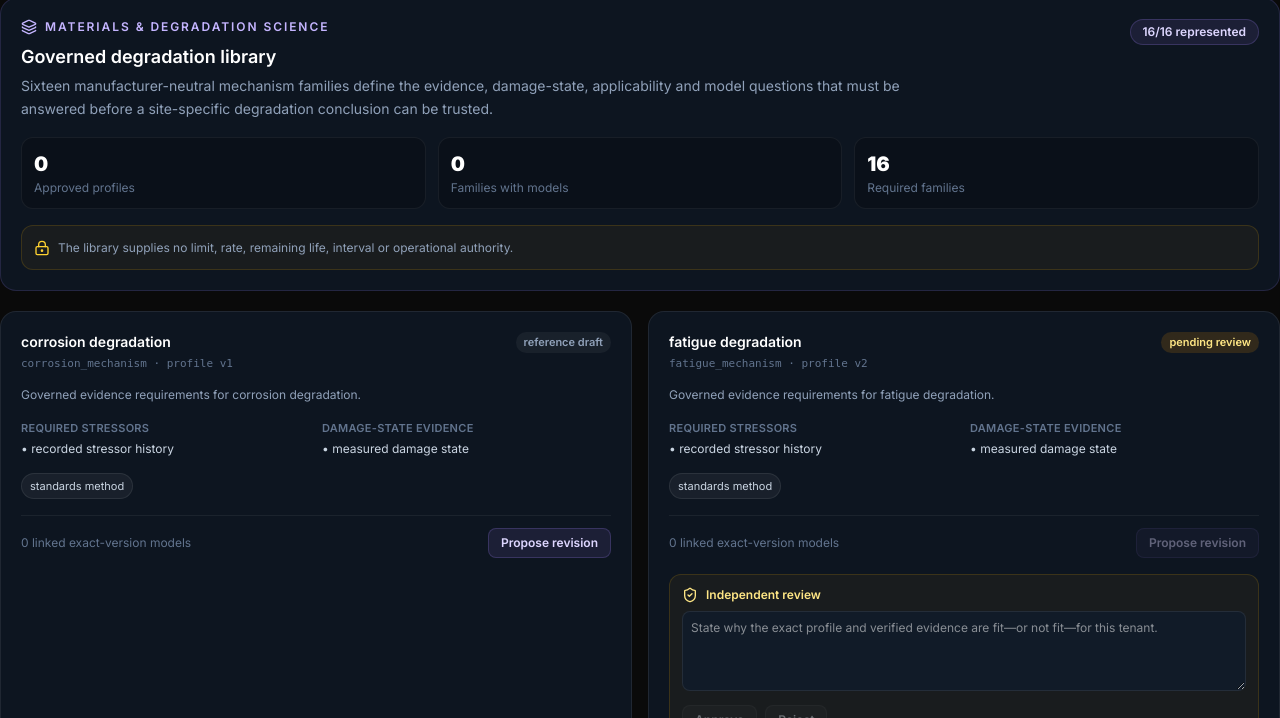
Test: DegradationLibraryPanel › submits a sourced revision through the governed RPC
This screenshot has width=1280, height=718.
Click the 1st button "Propose revision" at (550, 543), box [488,528,611,558]
(page scrolled)
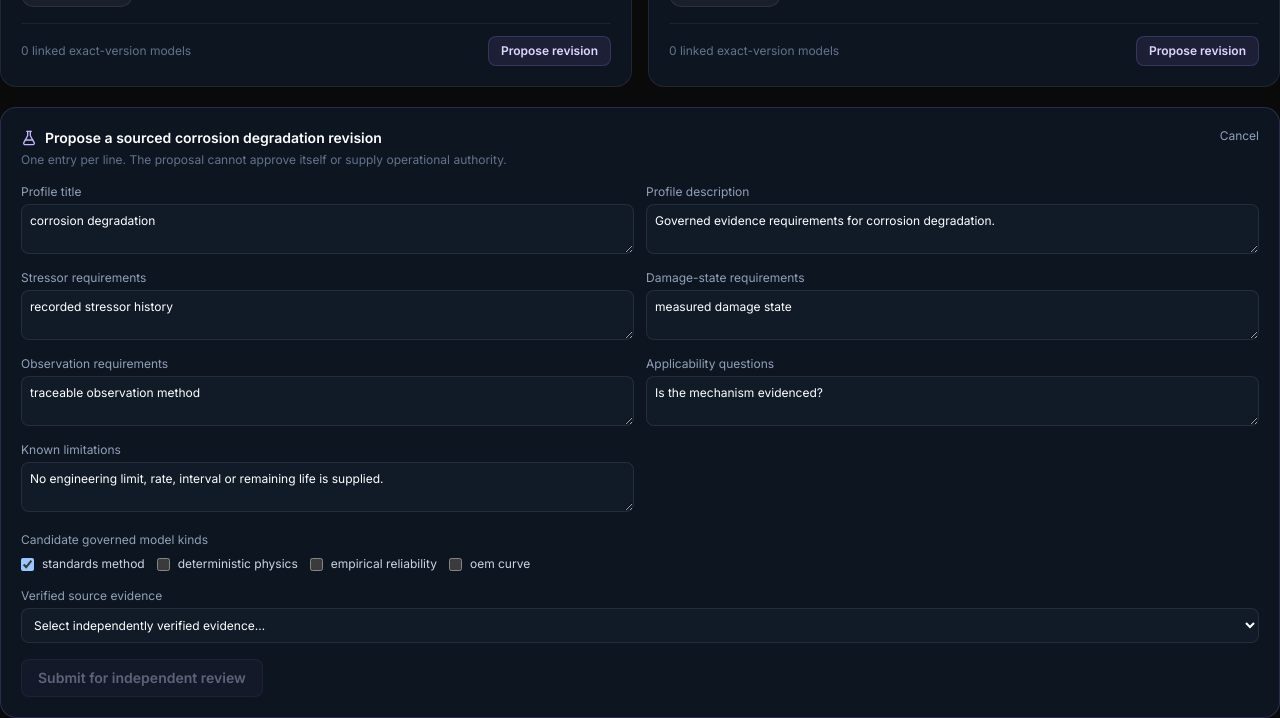
Select "inspection · Verified corrosion assessment basis" in the dropdown labelled "Verified source evidence" at (640, 626), box [21,608,1259,643]
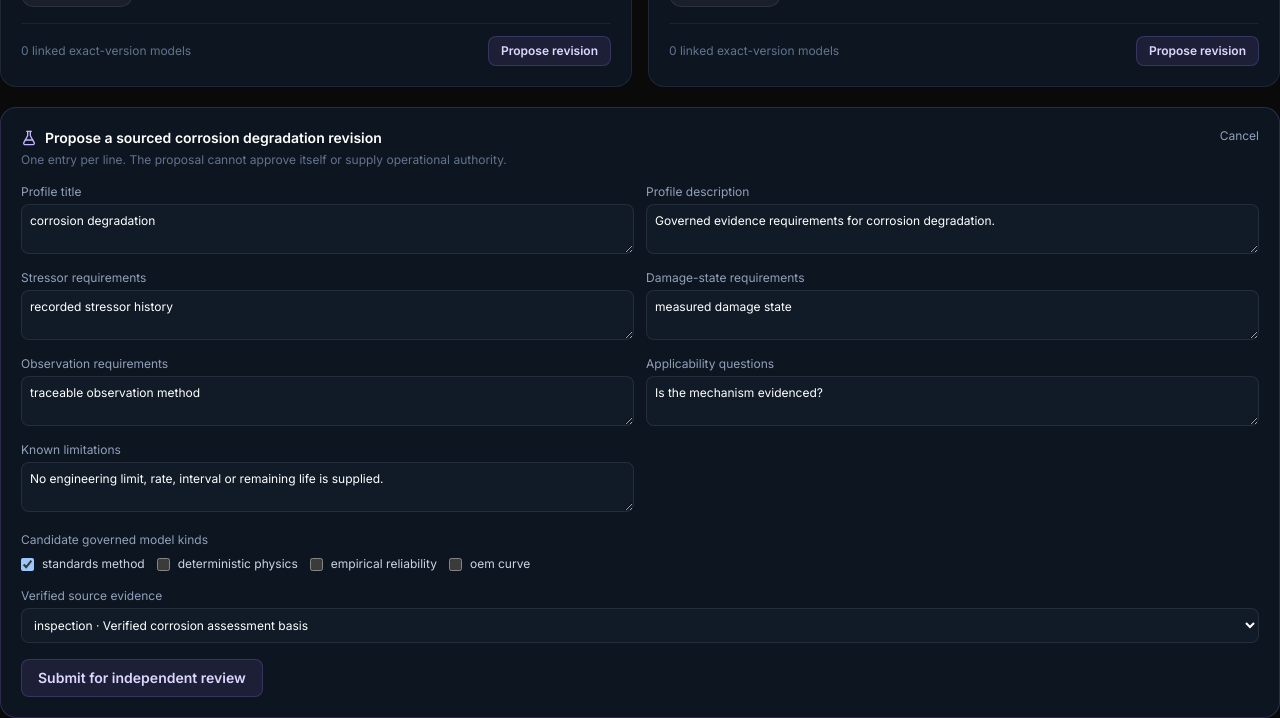
Click the button "Submit for independent review" at (142, 678), box [21,659,263,697]
(page scrolled)
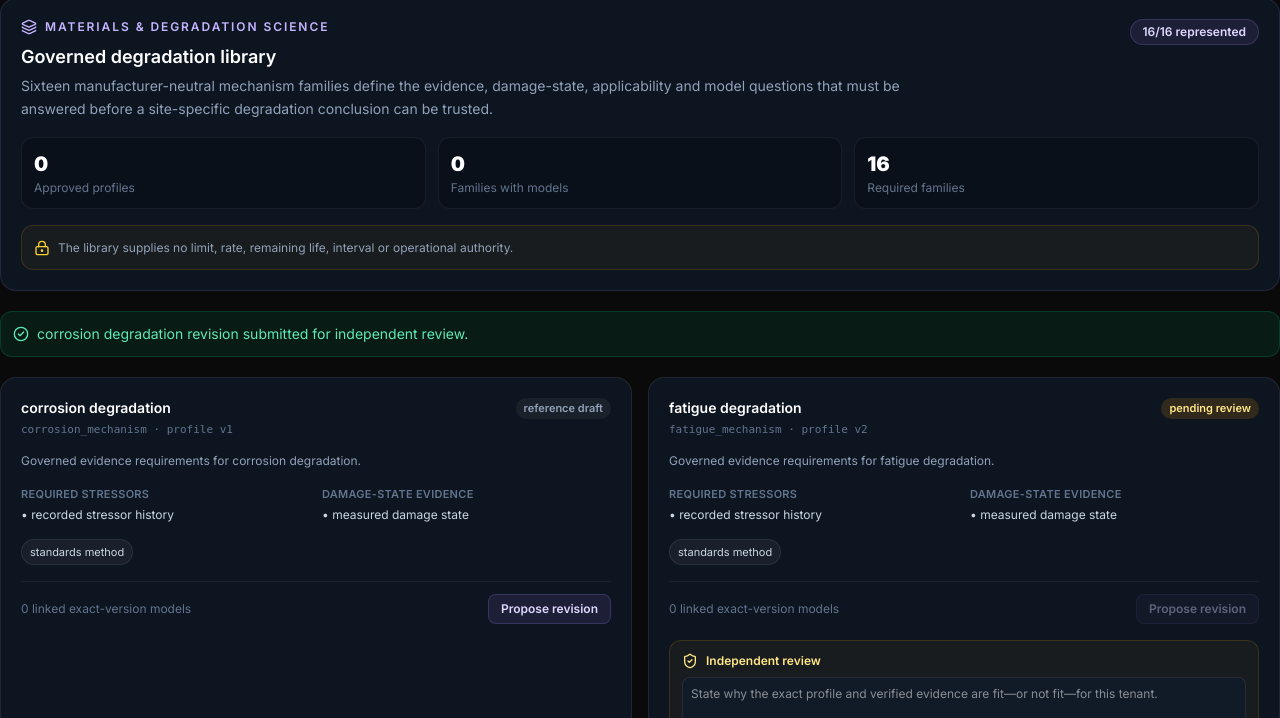
Result: the text "corrosion degradation revision submitted for independent review." is shown at [0,311,1279,357]
